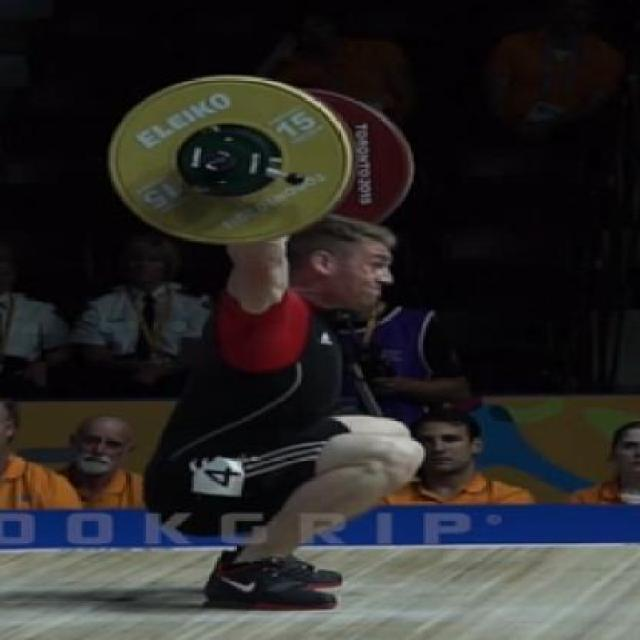barbell: (100, 69, 365, 249)
